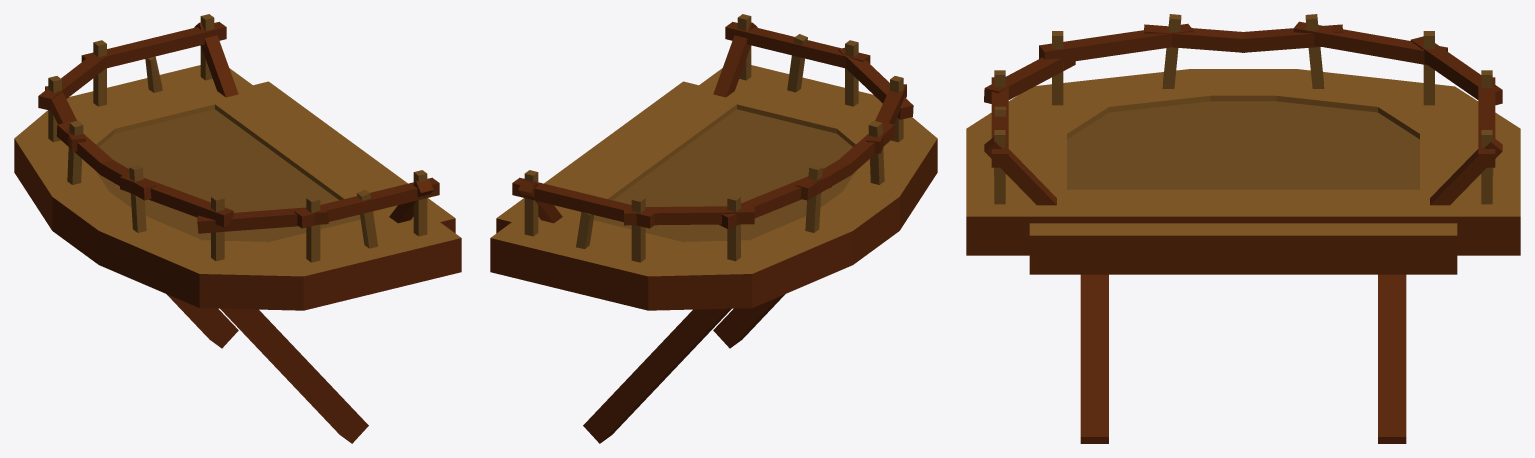
File: LookPosition.fbx
3 renders of one model, left to right at view 1: azimuth 30°, elevation 25°; view 2: azimuth 150°, elevation 25°; view 3: azimuth 270°, elevation 25°, orthographic. The views are drawn at different scales.
Parts seen in each view (by area): view 1: Cube.001, Cube.015, Cube, Cube.007; view 2: Cube.001, Cube.015, Cube, Cube.007; view 3: Cube.001, Cube.015, Cube, Cube.007.
Part boxes in pixels (box(x1,y1,x2,y2)): Cube.001: box(14, 65, 461, 310); Cube.015: box(38, 22, 439, 233); Cube: box(166, 294, 368, 443); Cube.007: box(48, 14, 427, 262); Cube.001: box(490, 65, 937, 310); Cube.015: box(512, 22, 913, 229); Cube: box(583, 294, 785, 443); Cube.007: box(524, 14, 903, 262); Cube.001: box(966, 69, 1520, 274); Cube.015: box(984, 21, 1502, 205); Cube: box(1080, 274, 1406, 443); Cube.007: box(994, 14, 1493, 204).
Size of the model in its own units: 1753 by 1690 by 2569.
1 material, 1 textured.
